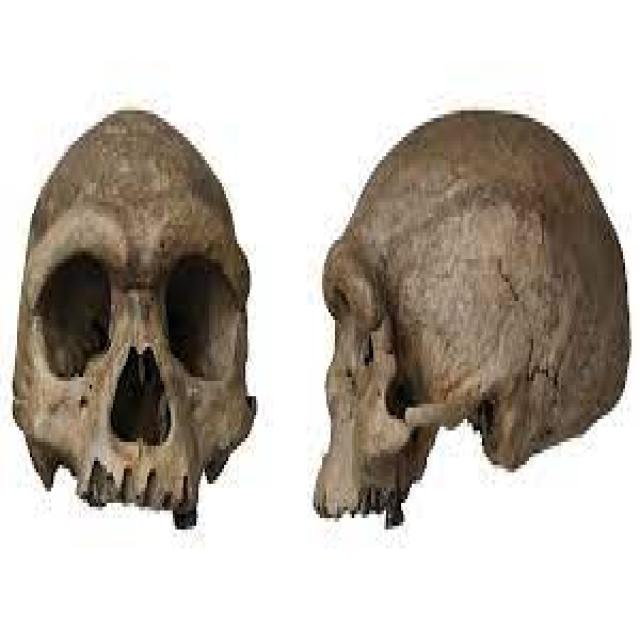skull: (299, 91, 632, 550)
